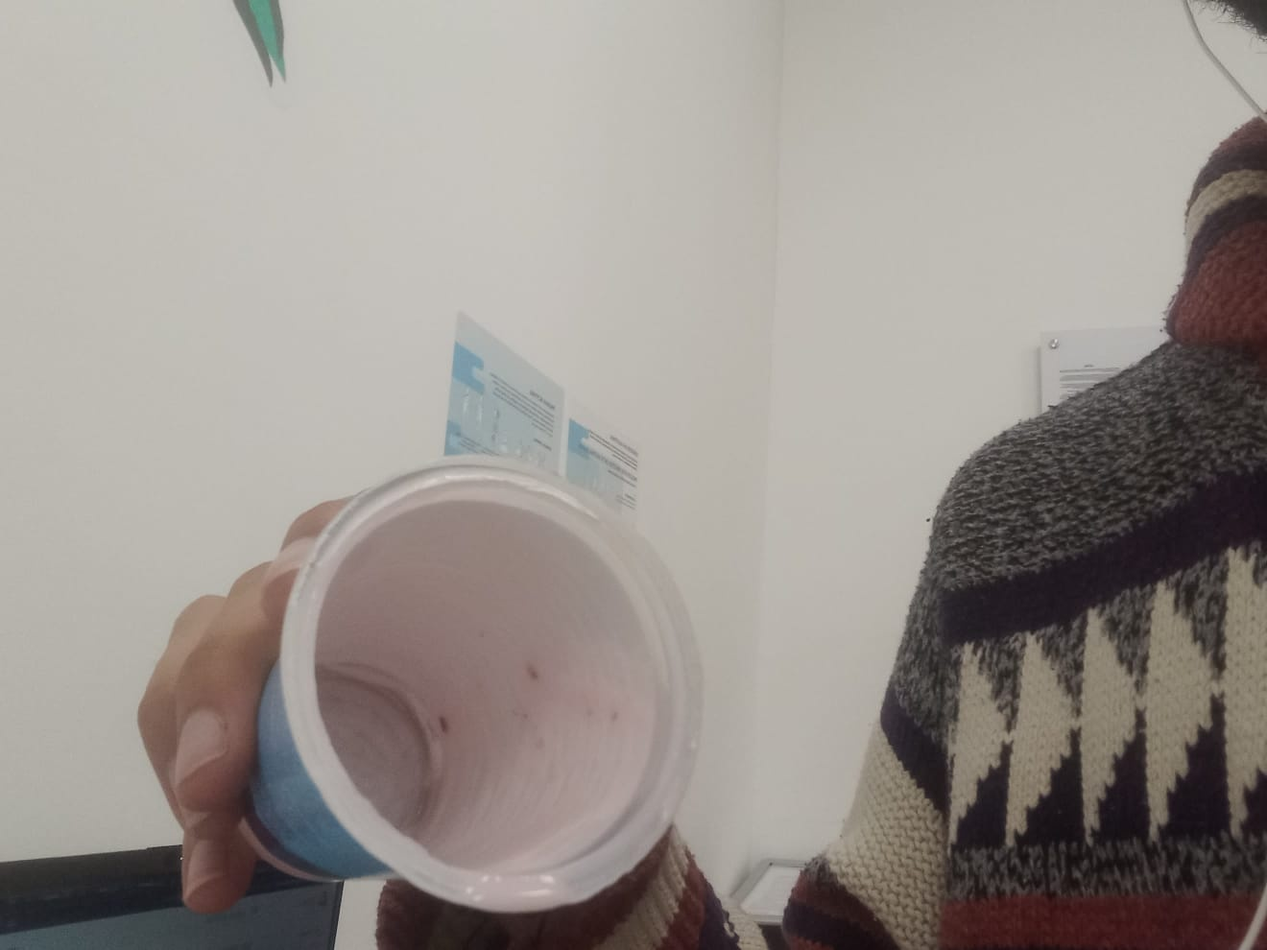Plastico: (231, 458, 710, 914)
